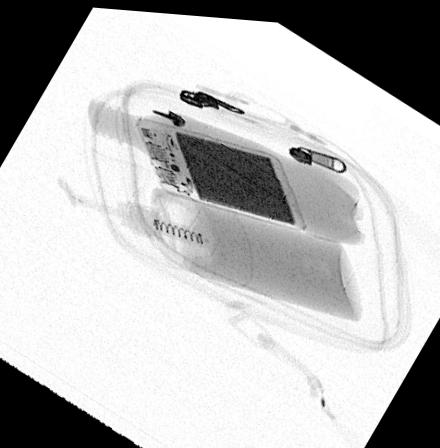Powerbank: (136, 113, 307, 225)
